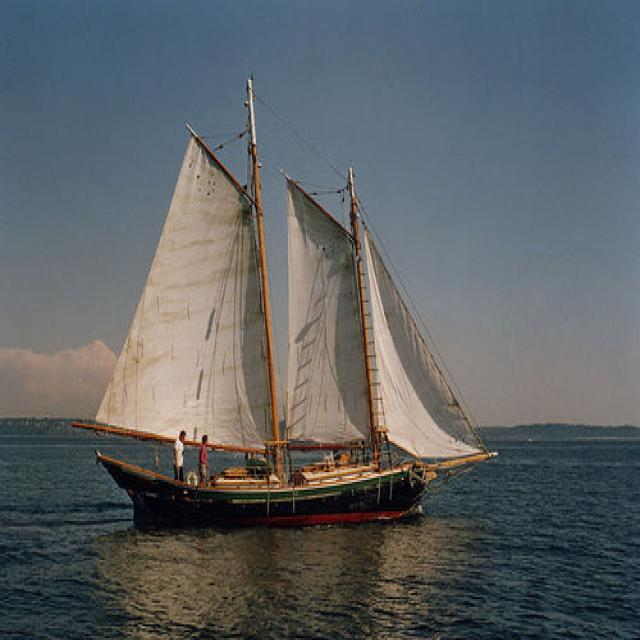Ship: (101, 81, 501, 536)
